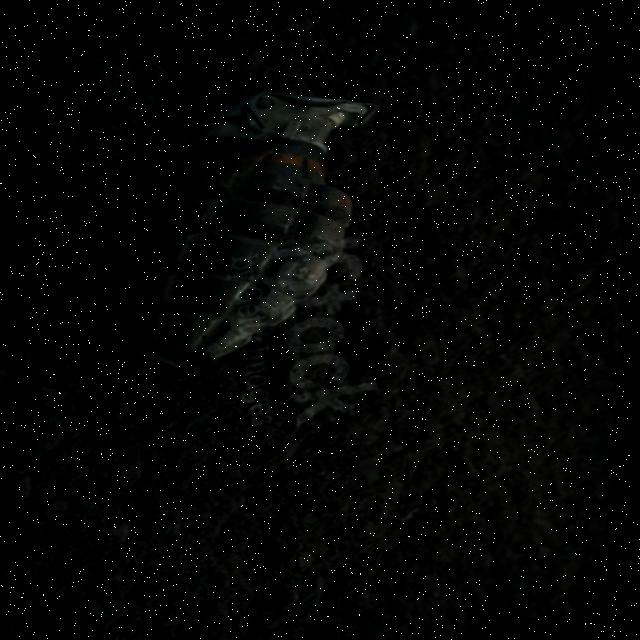grenade: (19, 58, 440, 397)
